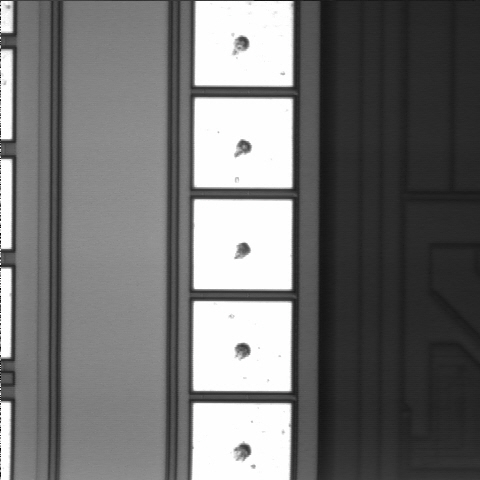pad: (194, 98, 292, 188), (194, 199, 292, 289), (193, 301, 291, 391)
